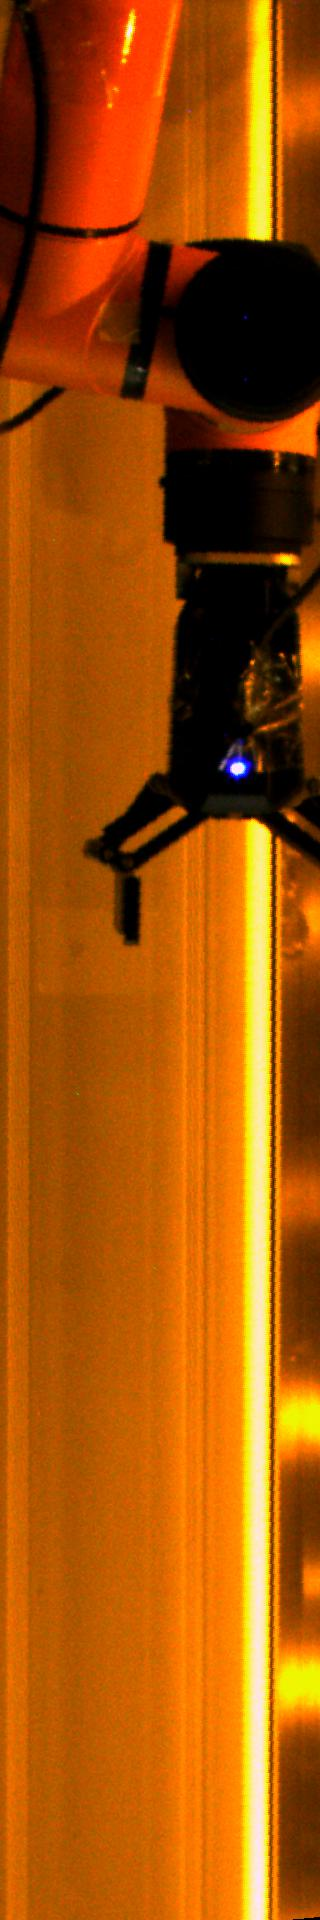keyPoint_1: (223, 753, 253, 782)
